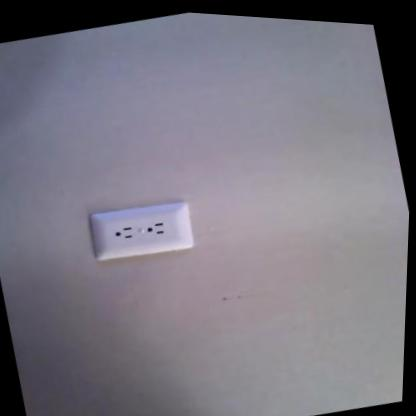OUTLET: (85, 189, 199, 269)
